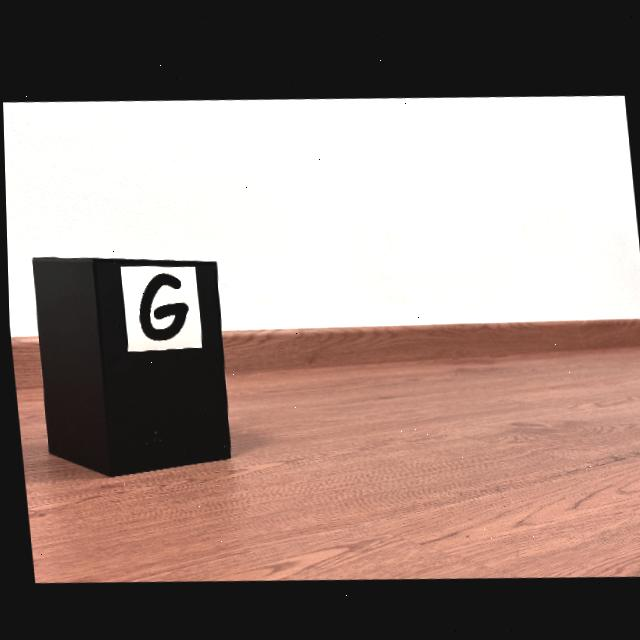G: (137, 271, 186, 338)
